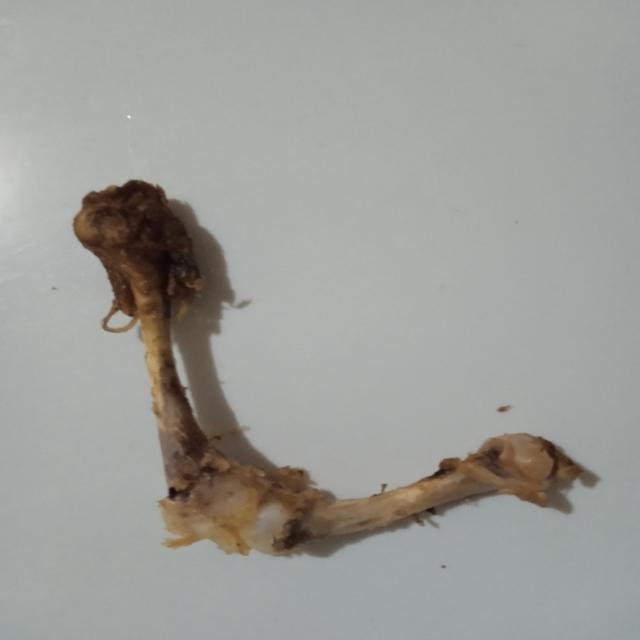bone: (65, 173, 604, 571)
